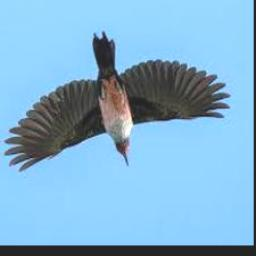Woodpecker: (5, 32, 230, 172)
